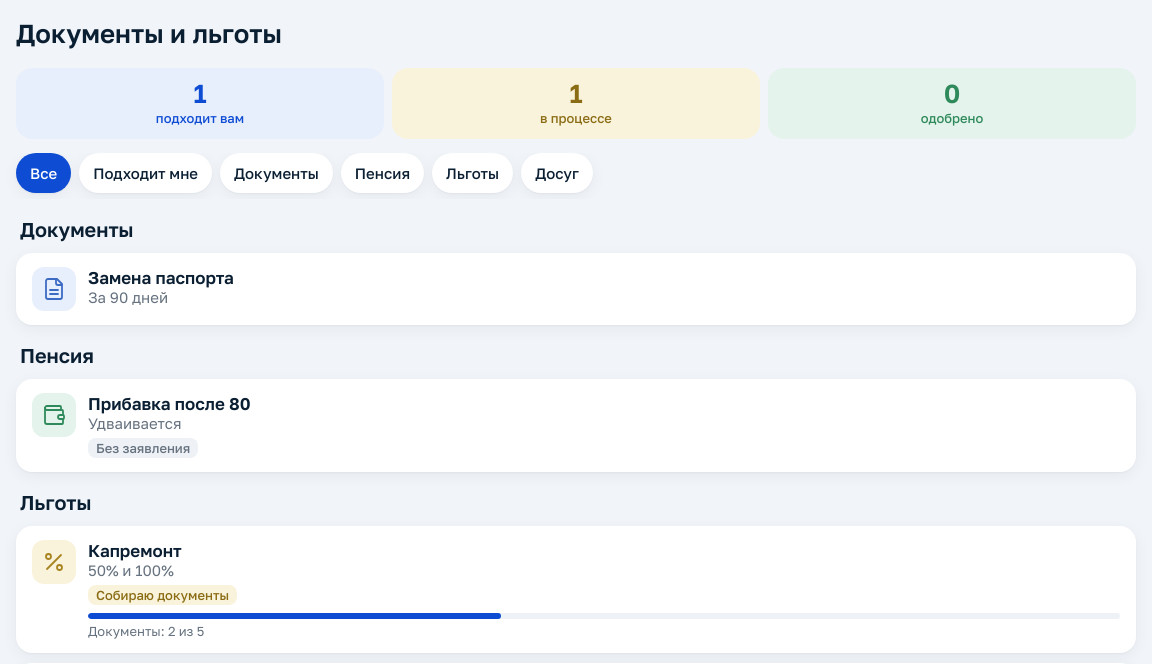
Test: DocumentsPage › без даты рождения «Подходит мне» подсказывает заполнить профиль
Click the button "Подходит мне" at (146, 173), box left=79, top=153, right=212, bottom=193
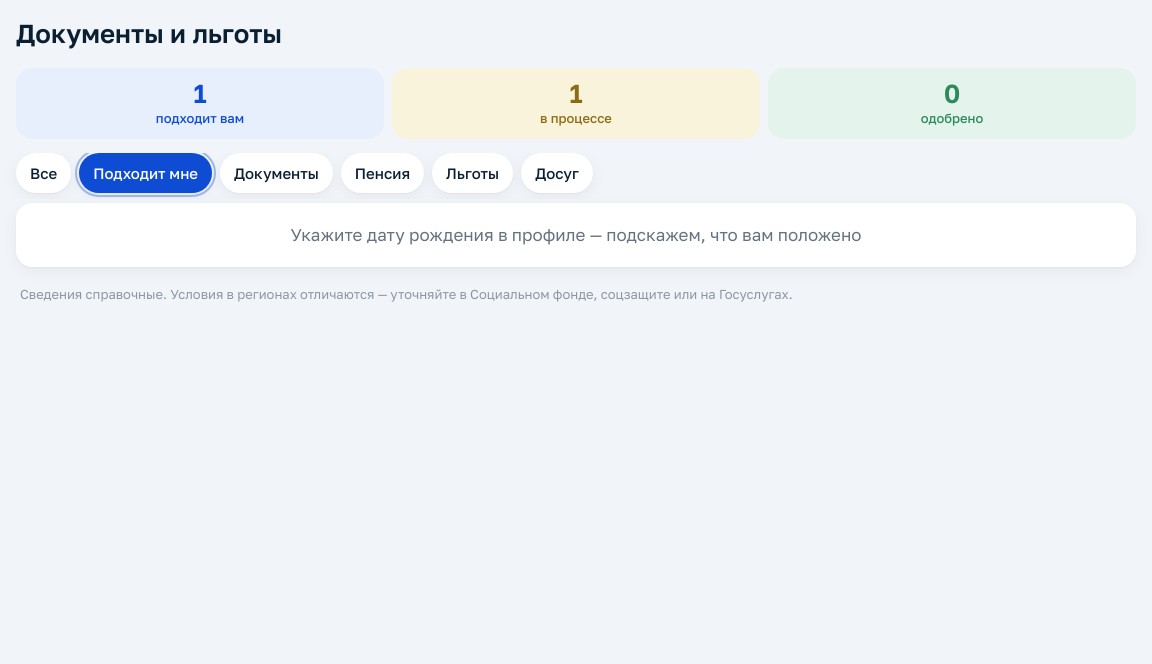
expect the text "Укажите дату рождения в профиле" is shown: met, box left=290, top=224, right=862, bottom=245
